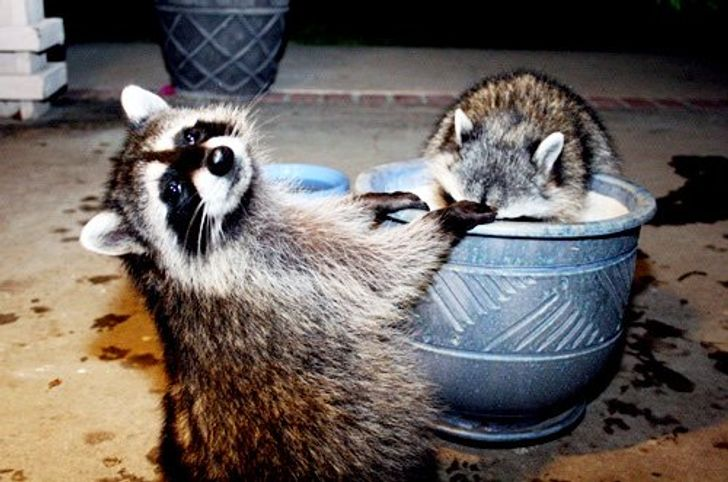raccoon: (74, 81, 413, 480), (440, 65, 612, 215)
